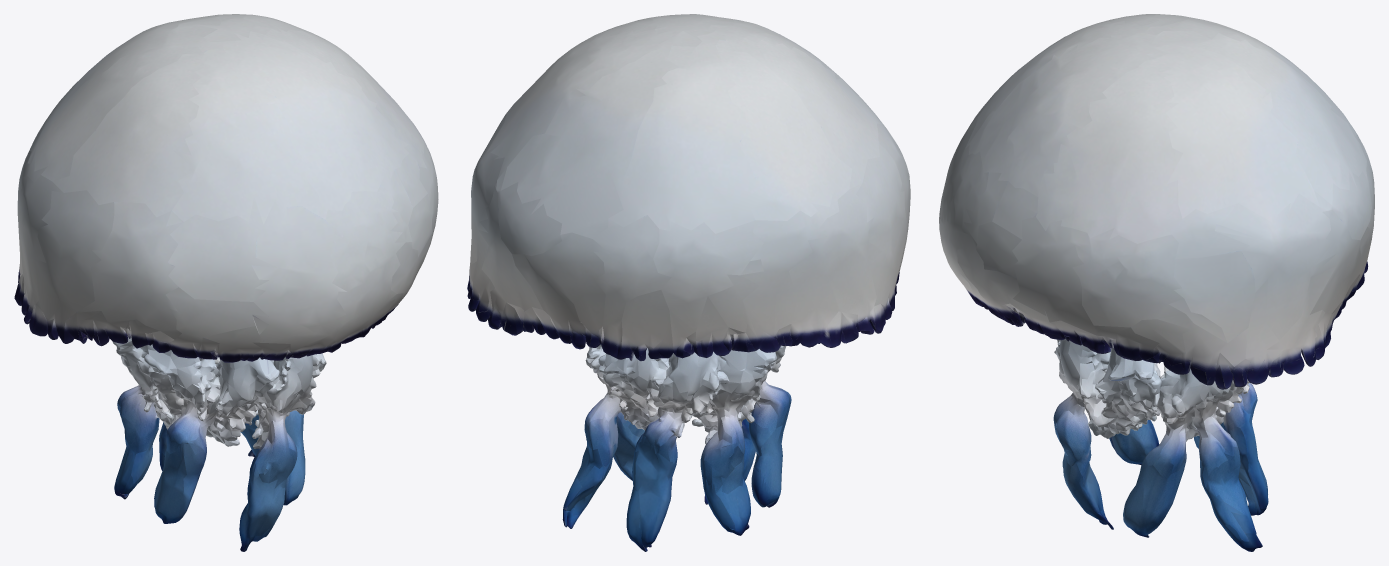
File: haepai-web-draco.glb
3 views of the same model, side by side, from view 1: azimuth 30°, elevation 25°; view 2: azimuth 150°, elevation 25°; view 3: azimuth 270°, elevation 25° (orthographic).
Parts seen in each view (by area): view 1: output_unwrapped; view 2: output_unwrapped; view 3: output_unwrapped.
Part boxes in pixels (x1,y1,x2,y2): output_unwrapped: (14, 14, 438, 551); output_unwrapped: (467, 14, 910, 551); output_unwrapped: (939, 14, 1374, 551).
Bounding box in the file's own units: 1.54 × 1.9 × 1.53.
Materials: 1 (1 with a texture image).
